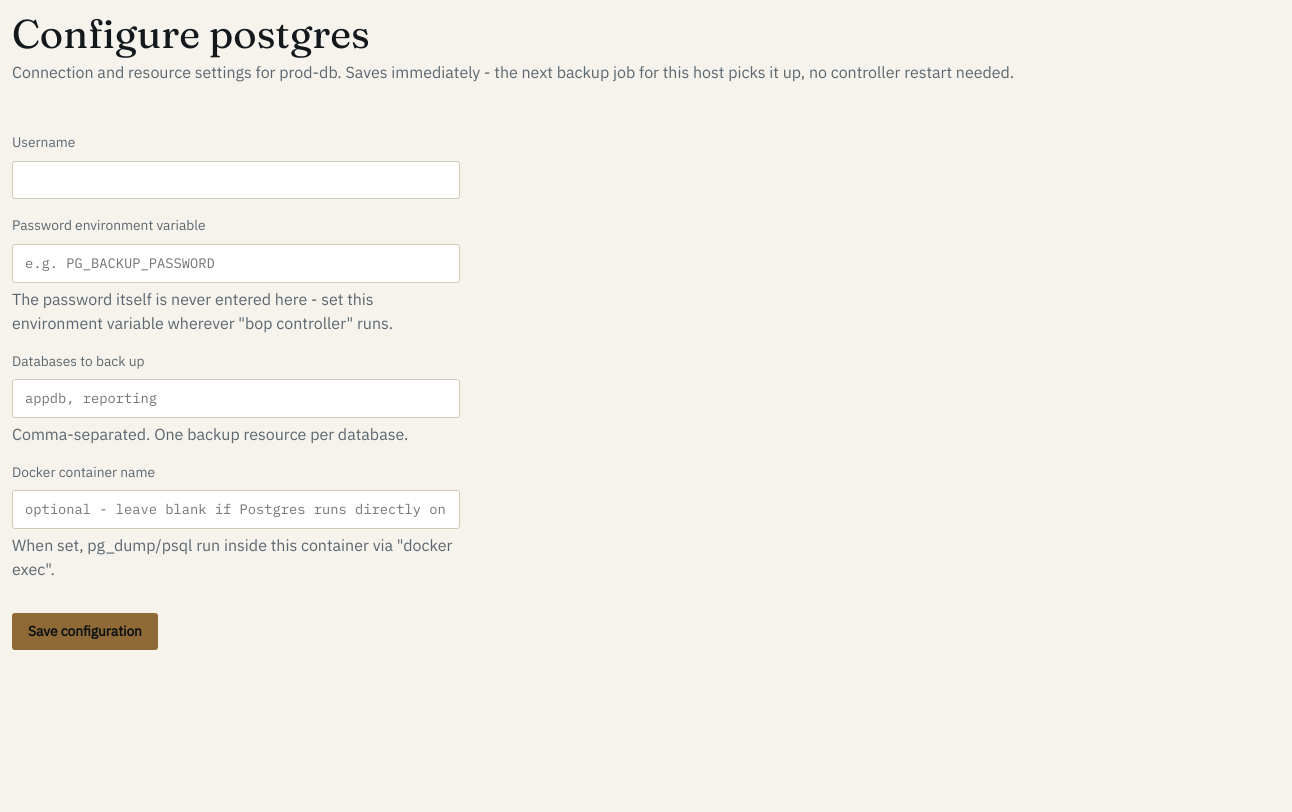
Test: PluginConfigPage - postgres › shows an inline error and no success message when saving fails
Type "backup_user" into the field labelled "Username" at (236, 180), box [12,161,460,199]
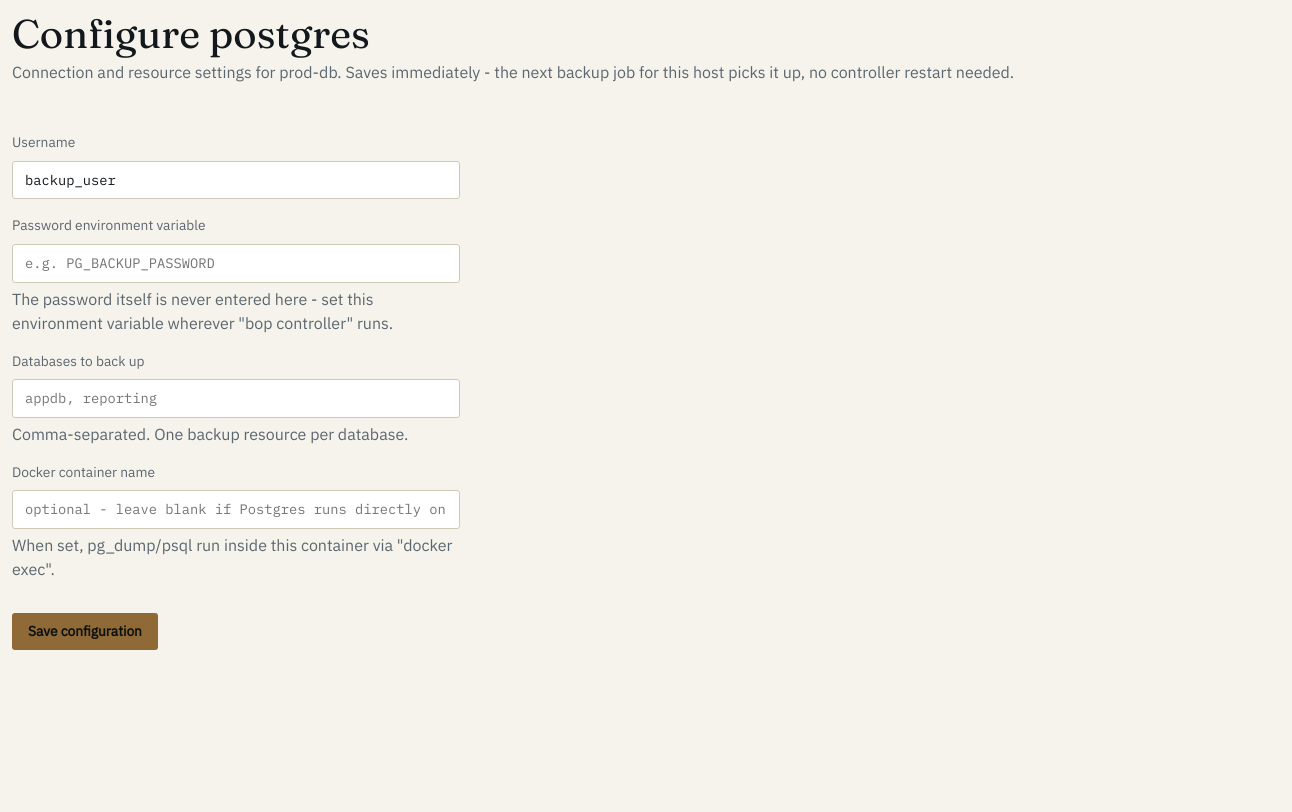
Type "PG_BACKUP_PASSWORD" into the field labelled "Password environment variable" at (236, 263), box [12,244,460,282]
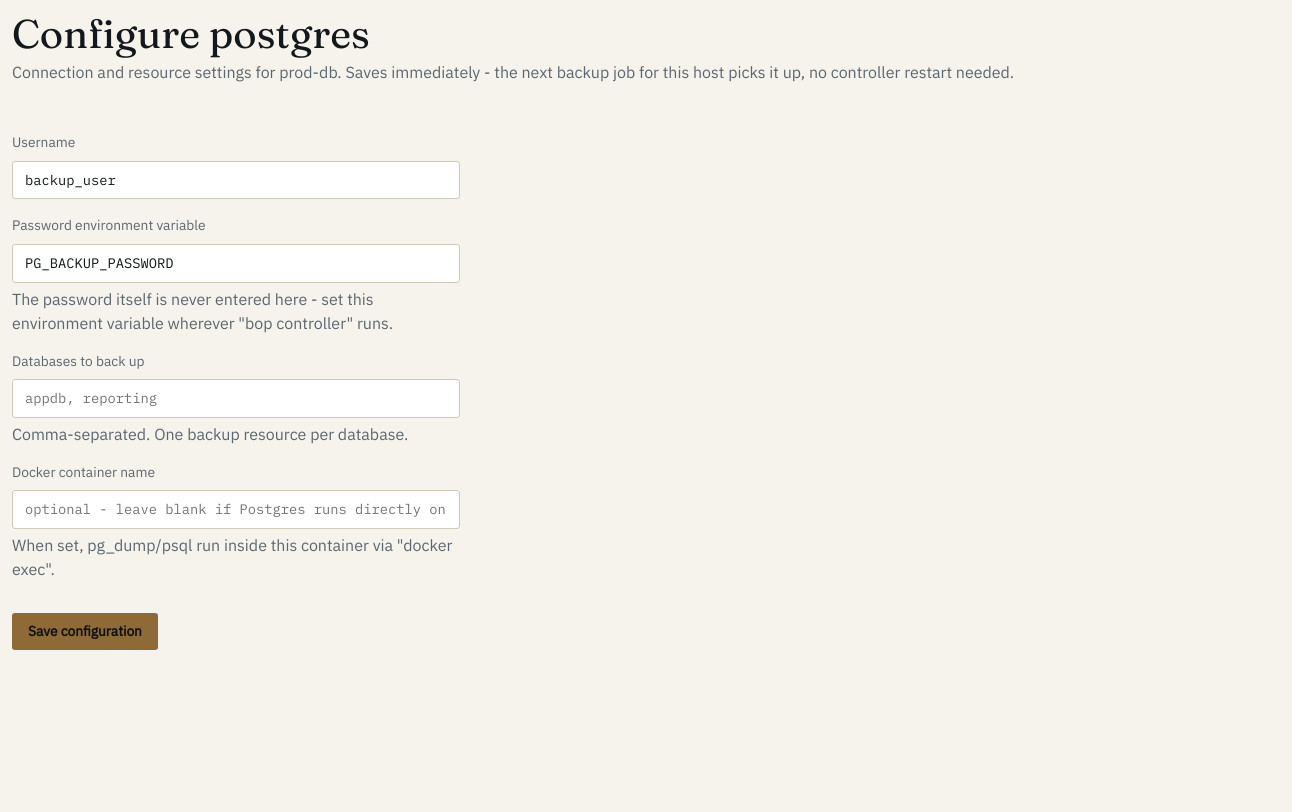
Type "appdb" into the field labelled "Databases to back up" at (236, 398), box [12,379,460,418]
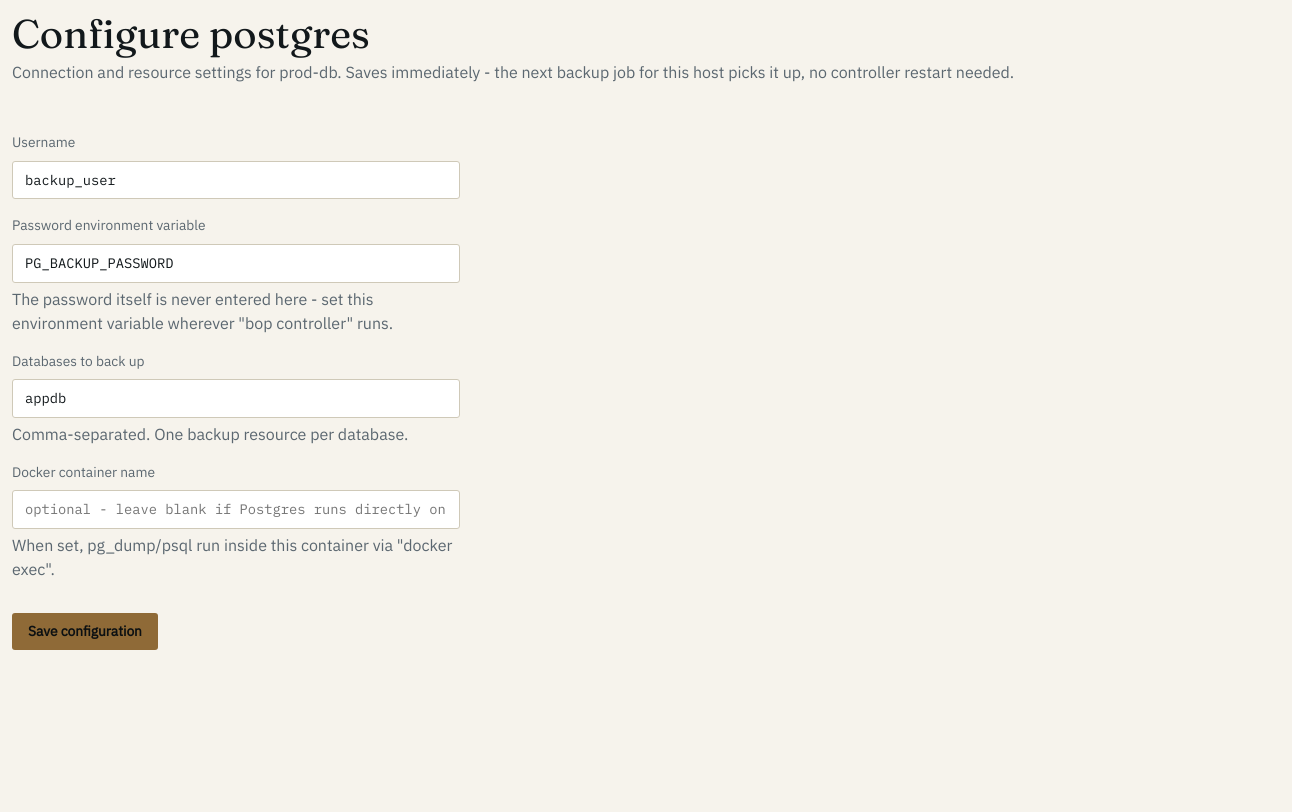
Click the button "Save configuration" at (85, 631), box [12,613,158,650]
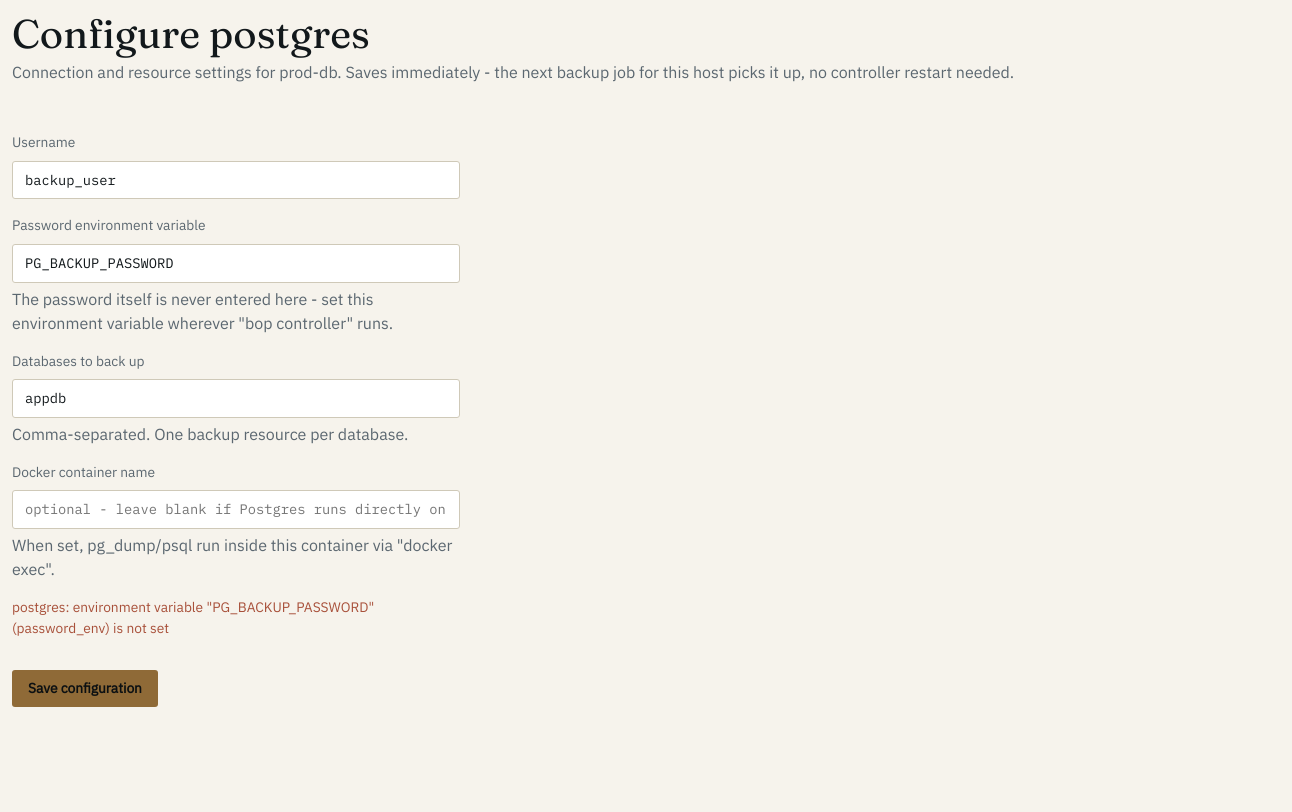
Expected: the message shows "is not set", [12,598,374,637]
